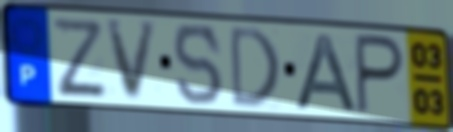A: (292, 31, 362, 115)
D: (228, 23, 282, 111)
P: (353, 31, 407, 118)
S: (171, 21, 226, 108)
V: (103, 19, 162, 104)
Z: (48, 14, 110, 98)
